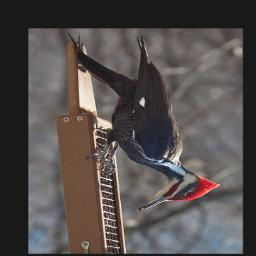Woodpecker: (68, 32, 222, 213)
